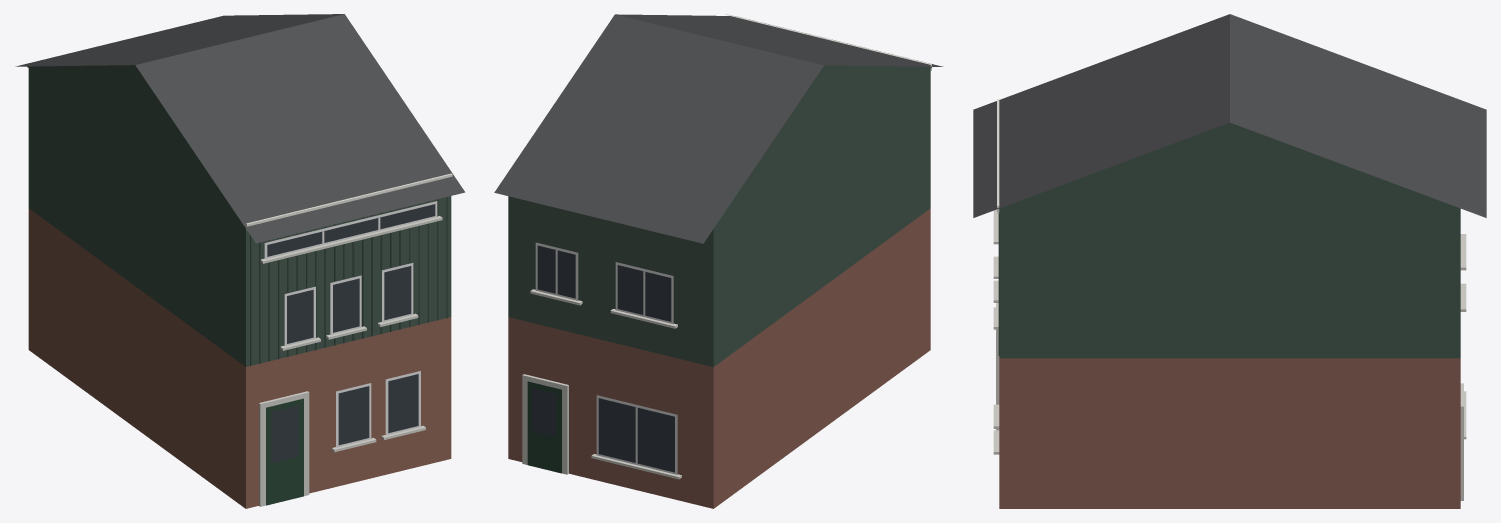
File: nw-ao-hebriden-clad__green__2__gable__long__solid.glb
3 renders of one model, left to right at view 1: azimuth 30°, elevation 25°; view 2: azimuth 150°, elevation 25°; view 3: azimuth 270°, elevation 25°, orthographic. The views are drawn at different scales.
Visible parts, largest first — view 1: nw-ao-hebriden-clad__green__2__gable__long__solid; view 2: nw-ao-hebriden-clad__green__2__gable__long__solid; view 3: nw-ao-hebriden-clad__green__2__gable__long__solid.
Boxes of the visible parts, bbox=[...] form: nw-ao-hebriden-clad__green__2__gable__long__solid: bbox=[15, 14, 465, 508]; nw-ao-hebriden-clad__green__2__gable__long__solid: bbox=[494, 14, 943, 508]; nw-ao-hebriden-clad__green__2__gable__long__solid: bbox=[973, 14, 1486, 508].
Bounding box in the file's own units: 5.48 × 9.13 × 10.96.
